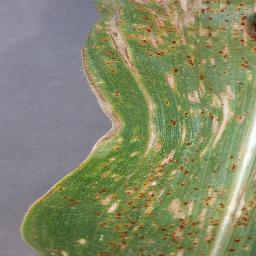Gray_Leaf_Spot: (68, 0, 256, 71), (93, 208, 155, 256), (226, 162, 256, 256), (177, 111, 207, 166), (155, 222, 203, 256), (160, 144, 189, 195), (143, 97, 163, 161), (130, 163, 164, 197), (23, 233, 71, 256), (96, 112, 126, 144), (88, 88, 123, 115), (90, 179, 120, 208), (134, 69, 158, 104), (195, 179, 227, 205), (138, 189, 162, 223), (121, 171, 137, 221), (57, 183, 84, 211), (172, 190, 194, 223), (205, 98, 217, 157), (94, 154, 121, 180), (207, 81, 235, 105), (202, 196, 214, 250), (82, 64, 109, 86), (164, 68, 183, 94), (186, 83, 207, 106), (220, 98, 233, 135), (186, 96, 206, 120), (215, 195, 226, 238), (67, 156, 90, 175), (166, 106, 181, 133), (236, 104, 252, 127), (162, 93, 183, 110), (85, 133, 96, 164), (98, 148, 122, 162), (245, 69, 256, 92), (34, 186, 57, 197), (207, 156, 219, 176), (24, 202, 48, 211), (77, 233, 91, 248), (130, 123, 139, 144), (233, 76, 245, 90), (54, 174, 69, 185), (130, 140, 137, 162), (127, 84, 137, 96), (196, 72, 205, 81), (230, 149, 236, 162), (223, 69, 226, 81)
